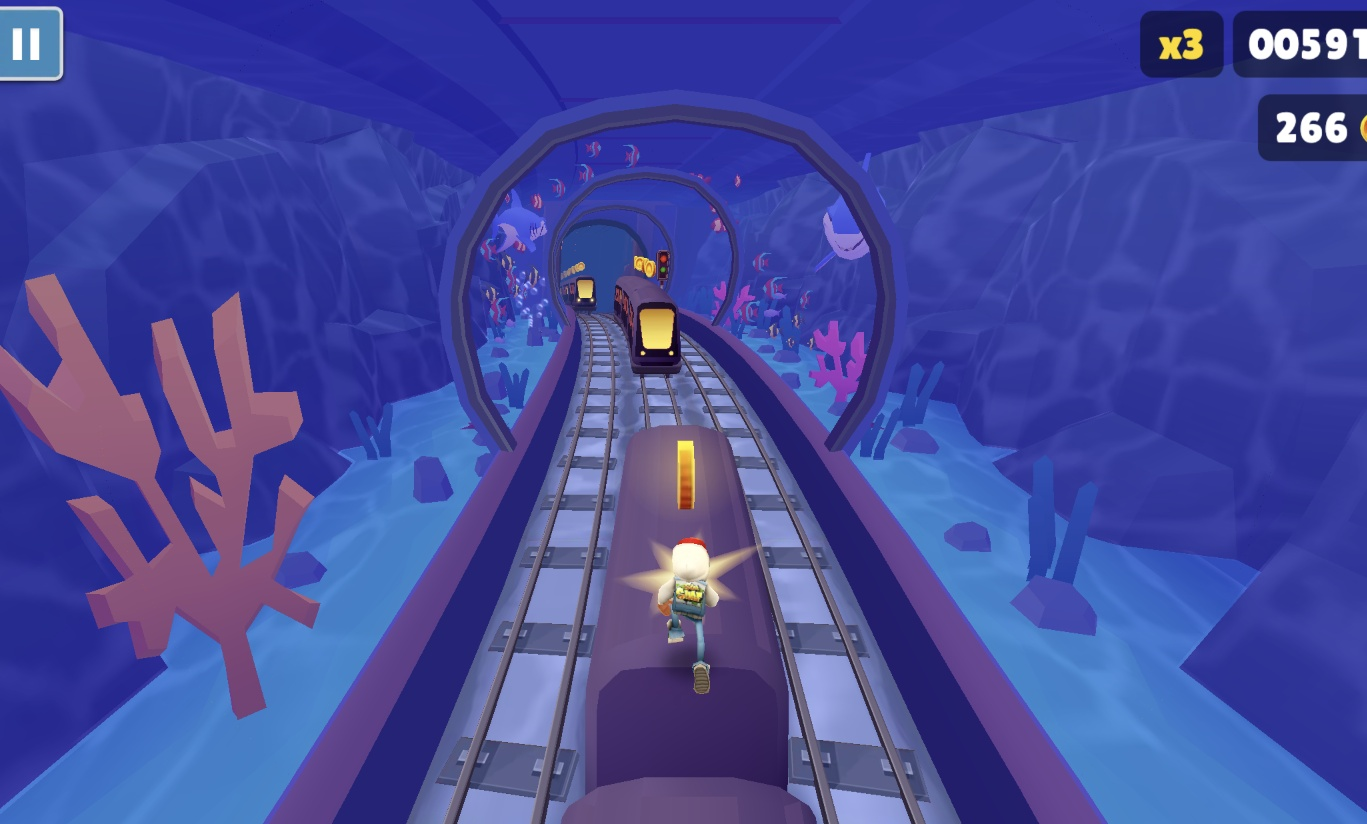train: (557, 425, 819, 824), (614, 276, 684, 378), (563, 276, 598, 313)
